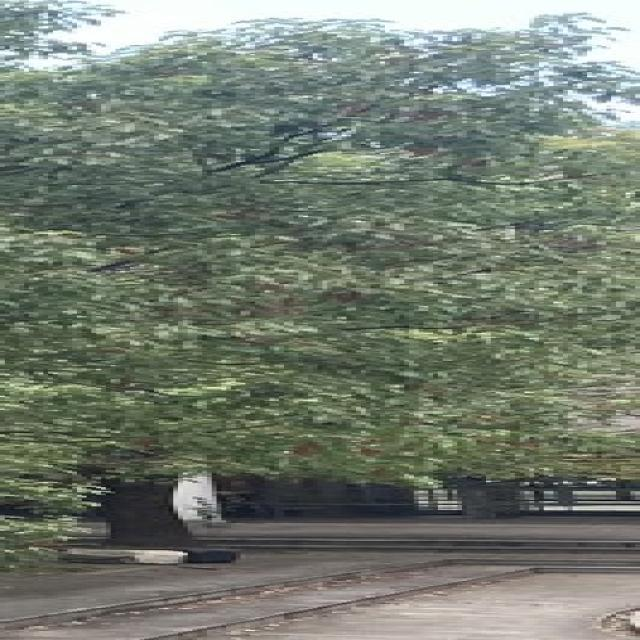maple: (0, 12, 640, 548)
